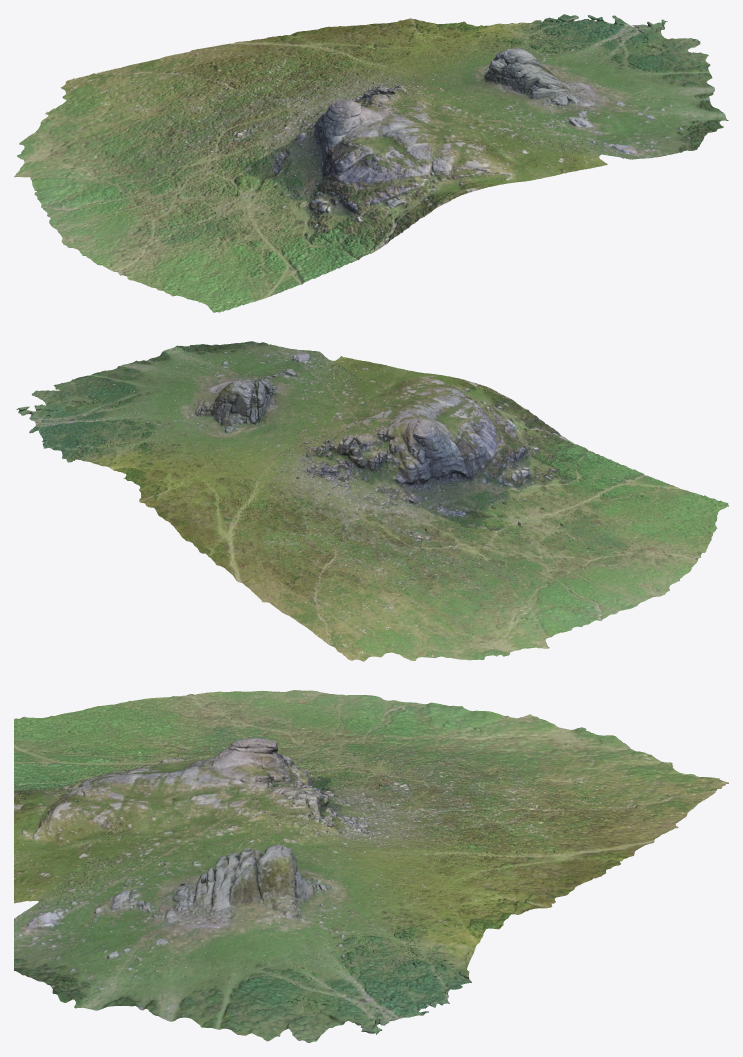
Rendered from terrain-scan.glb.
3 views of the same model, one above another, from view 1: azimuth 30°, elevation 25°; view 2: azimuth 150°, elevation 25°; view 3: azimuth 270°, elevation 25° (orthographic). The views are drawn at different scales.
Visible parts, largest first — view 1: world; view 2: world; view 3: world.
Part boxes in pixels (<box>): world: <box>14,14,728,312</box>; world: <box>16,341,728,661</box>; world: <box>14,690,728,1042</box>.
Size of the model in its own units: 2204 by 325 by 1598.
1 material, 1 textured.
